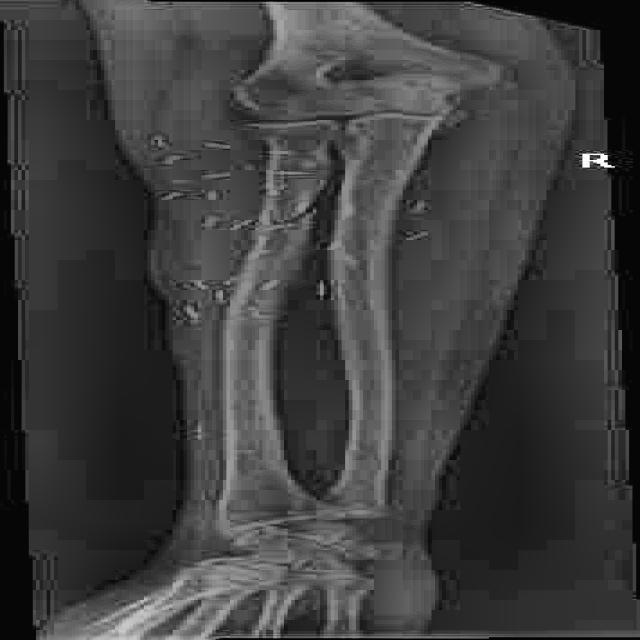forearm fracture: (263, 196, 365, 254)
